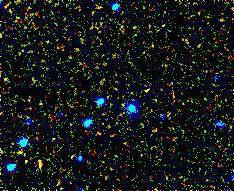star: (27, 147, 57, 177)
